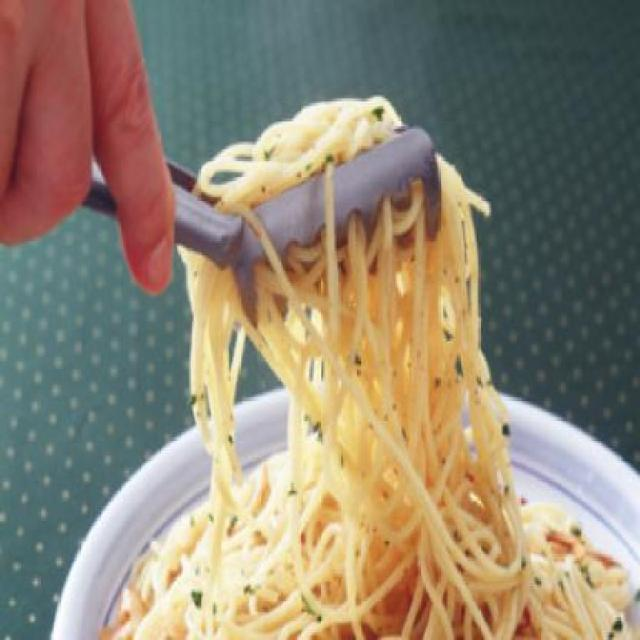Oil pasta: (214, 85, 534, 622)
